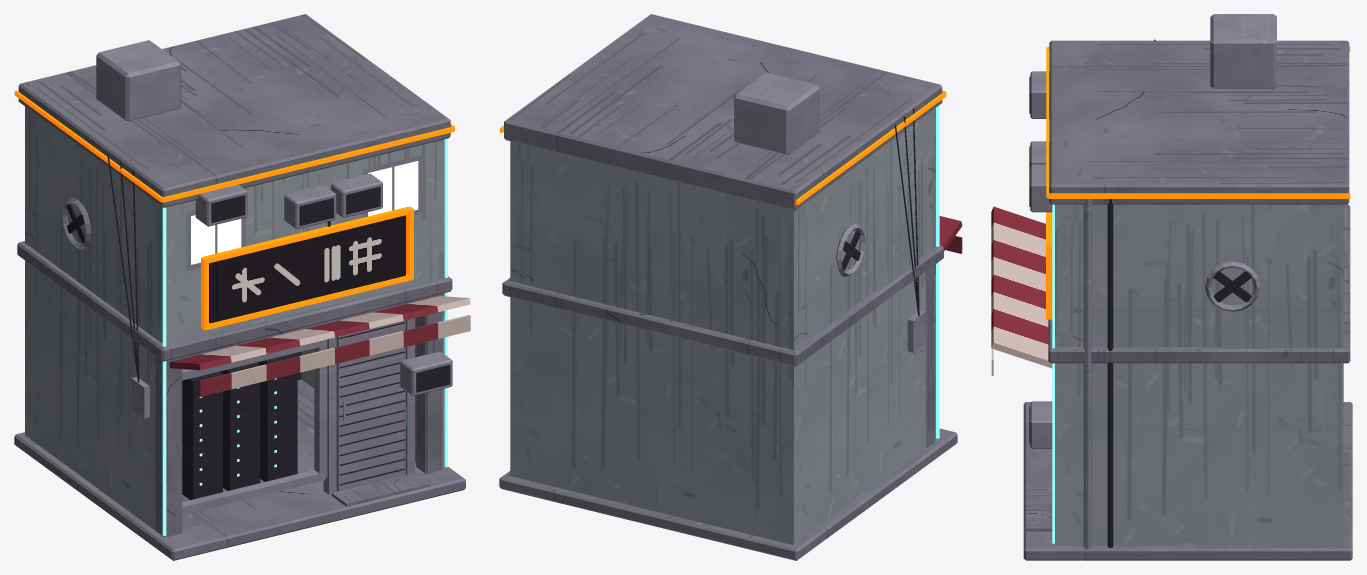
Rendered from servico_servidores.glb.
The picture shows the model from 3 angles, left to right: view 1: azimuth 30°, elevation 25°; view 2: azimuth 150°, elevation 25°; view 3: azimuth 270°, elevation 25°; orthographic projection. The views are drawn at different scales.
Visible parts, largest first — view 1: servico_servidores; view 2: servico_servidores; view 3: servico_servidores.
Boxes of the visible parts, <box> form: servico_servidores: <box>14,14,470,560</box>; servico_servidores: <box>499,14,962,560</box>; servico_servidores: <box>991,14,1352,560</box>.
Bounding box in the file's own units: 3.18 × 4.2 × 3.25.
Materials: 5 (2 with a texture image).
